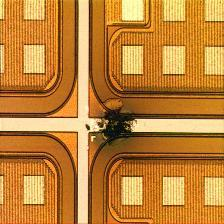PO CONTAMINATION: (85, 97, 141, 151)
